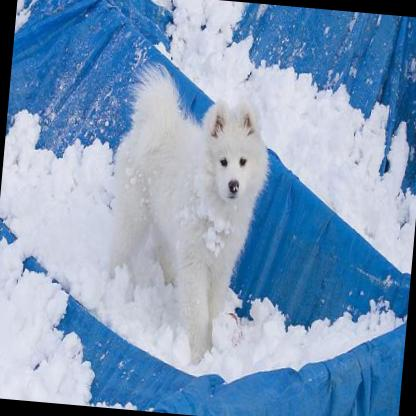Samoyed: (93, 56, 277, 371)
